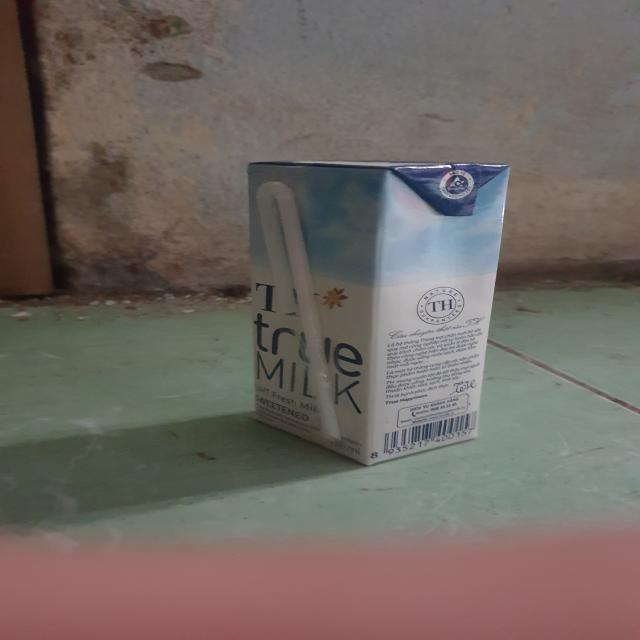TH: (248, 159, 513, 468)
